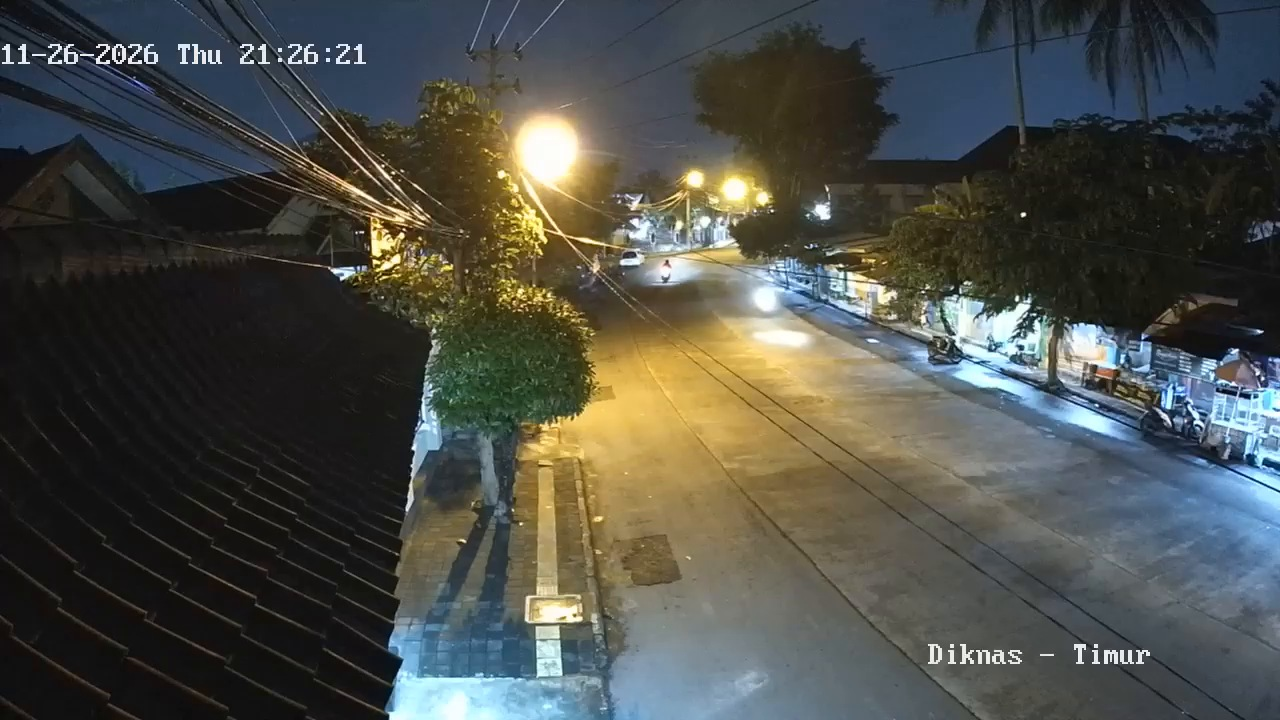Gerobak: (1197, 351, 1277, 462)
